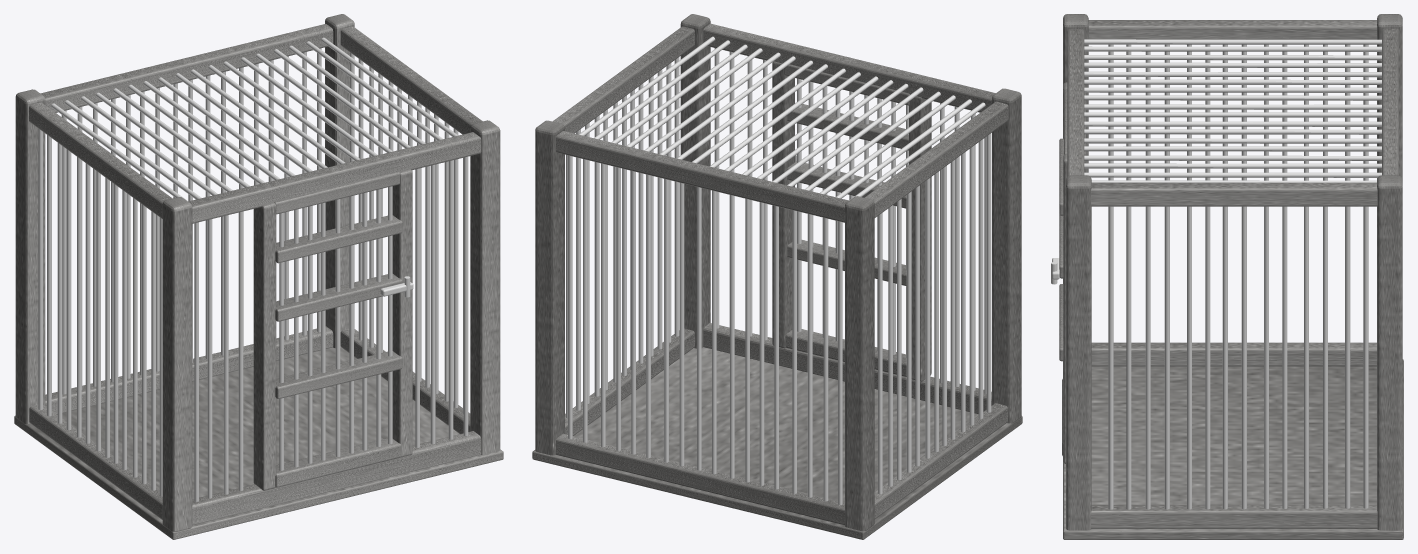
The model's file is cage.fbx.
3 views of the same model, side by side, from view 1: azimuth 30°, elevation 25°; view 2: azimuth 150°, elevation 25°; view 3: azimuth 270°, elevation 25° (orthographic). The views are drawn at different scales.
Parts seen in each view (by area): view 1: Wooden Floor, Main Wooden Post, Main Wooden Post.003, Main Wooden Post.001, Door Vertical Frame.002, Ceiling Front Beam, Front Bottom Beam, Ceiling Front Beam.001, Door Vertical Frame.001, Main Wooden Post.002, Ceiling Front Beam.004, Ceiling Front Beam.003 (+74 smaller); view 2: Wooden Floor, Main Wooden Post.001, Main Wooden Post.002, Main Wooden Post, Ceiling Front Beam.001, Ceiling Front Beam.002, Main Wooden Post.003, Ceiling Front Beam, Ceiling Front Beam.004, Front Bottom Beam, Door Vertical Frame.001, Ceiling Front Beam.003 (+79 smaller); view 3: Wooden Floor, Main Wooden Post.002, Main Wooden Post.003, Ceiling Front Beam.003, Ceiling Front Beam.005, Ceiling Front Beam.004, Ceiling Front Beam.006, Ceiling Front Beam, Ceiling Front Beam.001, Door Iron Bar 00.035, Door Iron Bar 00.036, Door Iron Bar 00.038 (+32 smaller).
Boxes of the visible parts, box(x1,y1,x2,y2) form: Wooden Floor: box(14, 347, 503, 539); Main Wooden Post: box(162, 197, 192, 531); Main Wooden Post.003: box(470, 120, 500, 454); Main Wooden Post.001: box(15, 89, 45, 423); Door Vertical Frame.002: box(253, 202, 276, 490); Ceiling Front Beam: box(188, 132, 481, 223); Front Bottom Beam: box(192, 431, 481, 525); Ceiling Front Beam.001: box(40, 24, 333, 112); Door Vertical Frame.001: box(392, 169, 412, 457); Main Wooden Post.002: box(325, 14, 354, 348); Ceiling Front Beam.004: box(29, 102, 172, 218); Ceiling Front Beam.003: box(340, 26, 482, 134); Wooden Floor: box(532, 347, 1022, 539); Main Wooden Post.001: box(845, 196, 874, 530); Main Wooden Post.002: box(535, 120, 564, 455); Main Wooden Post: box(992, 88, 1021, 423); Ceiling Front Beam.001: box(556, 131, 848, 222); Ceiling Front Beam.002: box(556, 433, 844, 524); Main Wooden Post.003: box(680, 14, 710, 348); Ceiling Front Beam: box(703, 23, 995, 112); Ceiling Front Beam.004: box(864, 101, 1008, 217); Front Bottom Beam: box(703, 323, 991, 413); Door Vertical Frame.001: box(772, 61, 794, 348); Ceiling Front Beam.003: box(552, 26, 694, 133); Wooden Floor: box(1063, 359, 1403, 539); Main Wooden Post.002: box(1377, 175, 1402, 530); Main Wooden Post.003: box(1066, 175, 1091, 530); Ceiling Front Beam.003: box(1091, 182, 1377, 206); Ceiling Front Beam.005: box(1091, 505, 1377, 528); Ceiling Front Beam.004: box(1088, 20, 1376, 39); Ceiling Front Beam.006: box(1091, 342, 1376, 366); Ceiling Front Beam: box(1067, 29, 1084, 176); Ceiling Front Beam.001: box(1382, 28, 1398, 175); Door Iron Bar 00.035: box(1108, 206, 1113, 509); Door Iron Bar 00.036: box(1126, 206, 1131, 509); Door Iron Bar 00.038: box(1145, 206, 1150, 509).
Bounding box in the file's own units: 240 × 230 × 207.
Materials: 86 (4 with a texture image).
